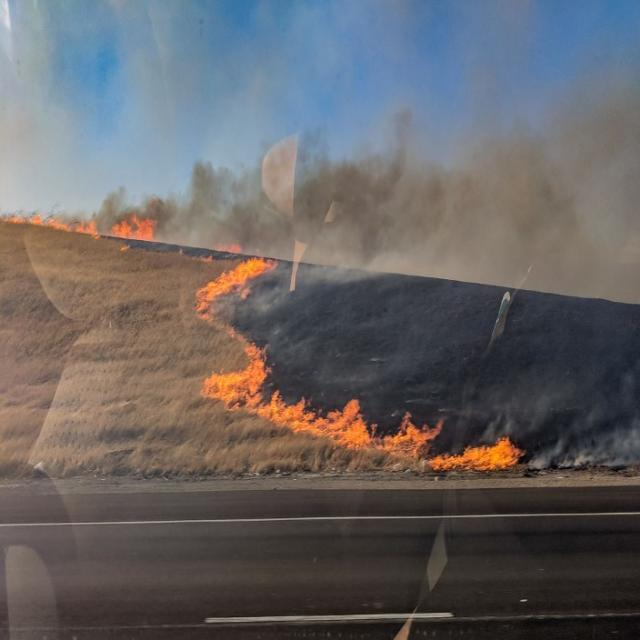Fire: (200, 238, 518, 473), (5, 202, 158, 256)
